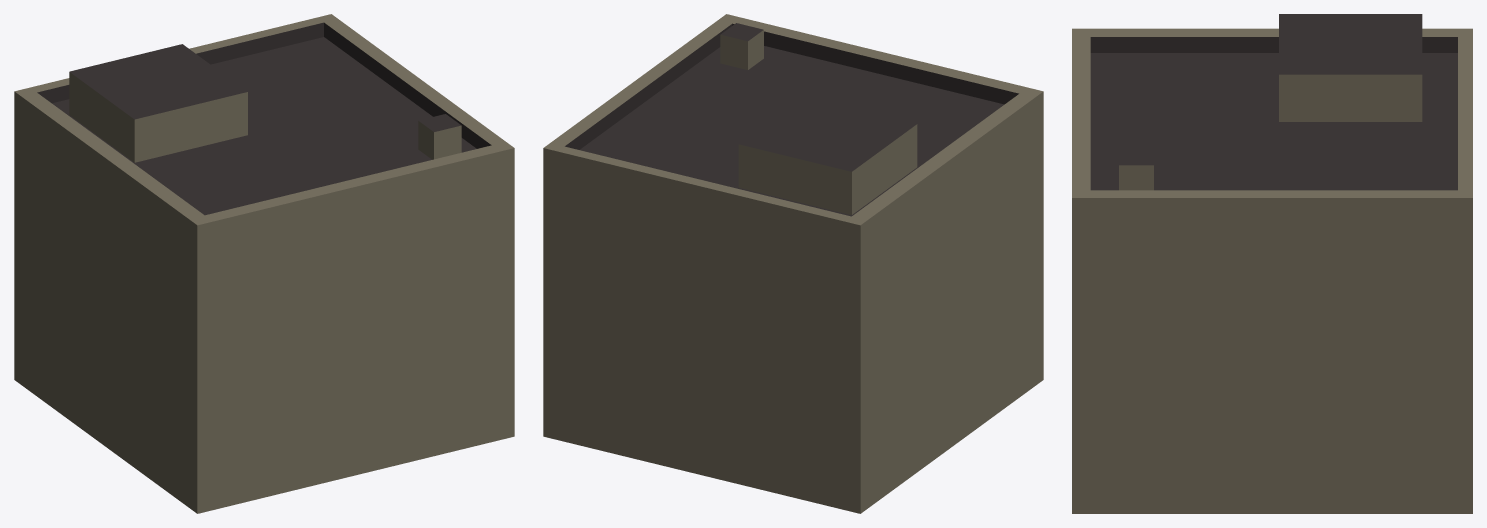
File: highrise_1.obj
The picture shows the model from 3 angles, left to right: view 1: azimuth 30°, elevation 25°; view 2: azimuth 150°, elevation 25°; view 3: azimuth 270°, elevation 25°; orthographic projection. The views are drawn at different scales.
Visible parts, largest first — view 1: Mesh1 Model; view 2: Mesh1 Model; view 3: Mesh1 Model.
Boxes of the visible parts, x1,y1,x2,y2 form: Mesh1 Model: (14,14,514,513); Mesh1 Model: (543,14,1043,513); Mesh1 Model: (1072,14,1472,513).
Size of the model in its own units: 23 by 22 by 23.
